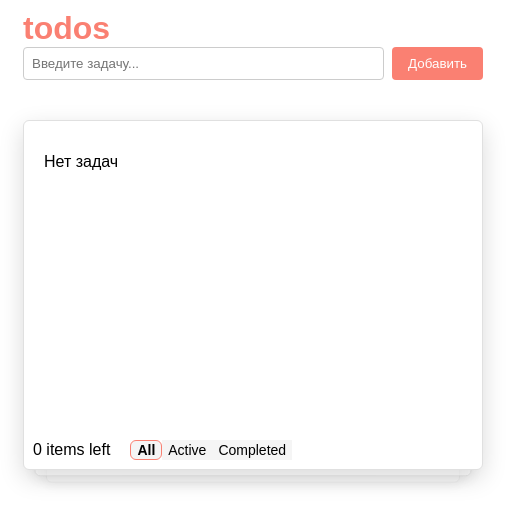
Test: Компонент Todo › Очищает выполненные задачи
Type "Тестовая задача" into the field with placeholder "Введите задачу..." at (204, 64), box [23,47,384,80]
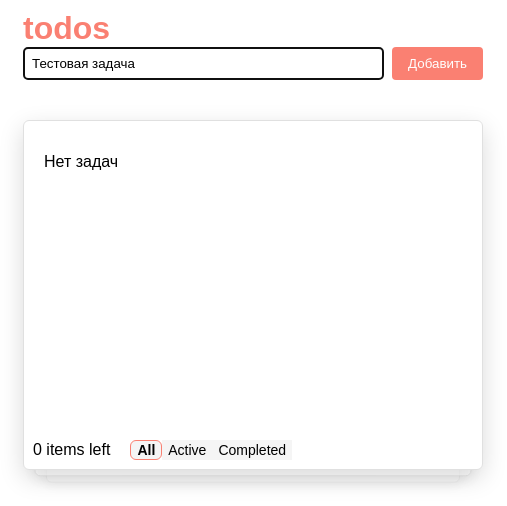
Click the button "Добавить" at (438, 64), box [392,47,483,80]
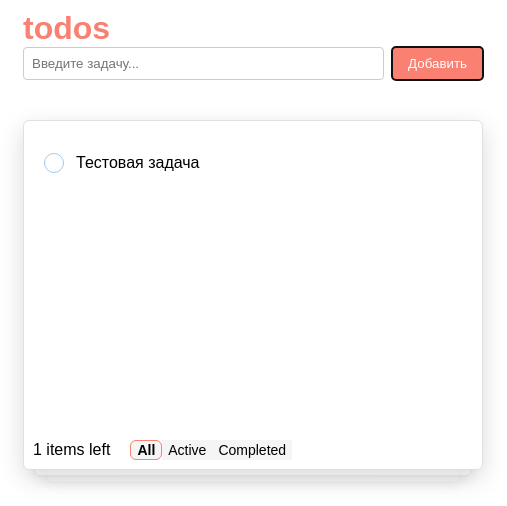
Click the checkbox at (54, 163), box [44,153,64,173]
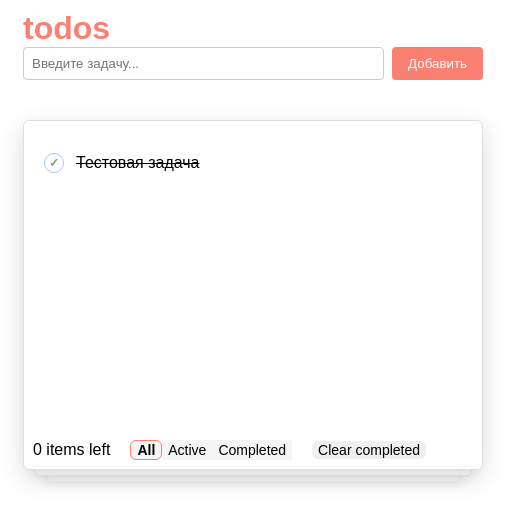
Click the button "Clear completed" at (369, 450), box [312,441,426,459]
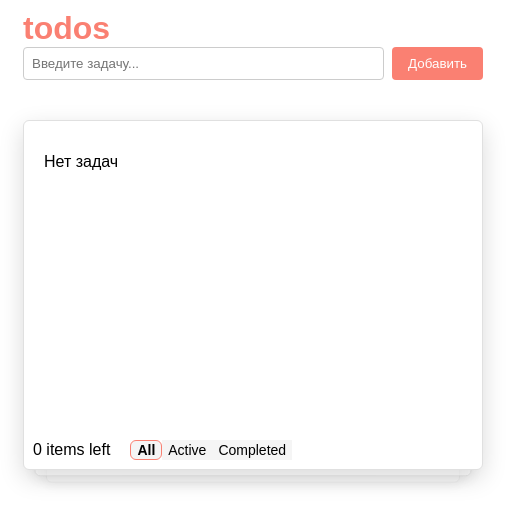
Check: the text "Тестовая задача" is gone
